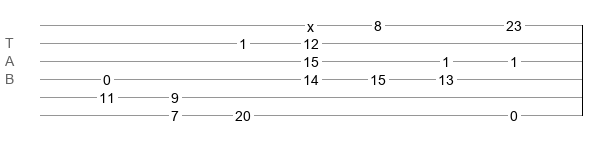0: (103, 72, 111, 82), (510, 108, 518, 118)
1: (239, 36, 247, 46), (442, 54, 450, 64), (510, 54, 518, 64)
11: (99, 90, 115, 100)
12: (303, 36, 319, 46)
13: (438, 72, 454, 82)
14: (303, 72, 319, 82)
15: (303, 54, 319, 64), (370, 72, 386, 82)
20: (235, 108, 251, 118)
23: (506, 18, 522, 28)
7: (171, 108, 179, 118)
8: (374, 18, 382, 28)
9: (171, 90, 179, 100)
x: (307, 19, 314, 27)
